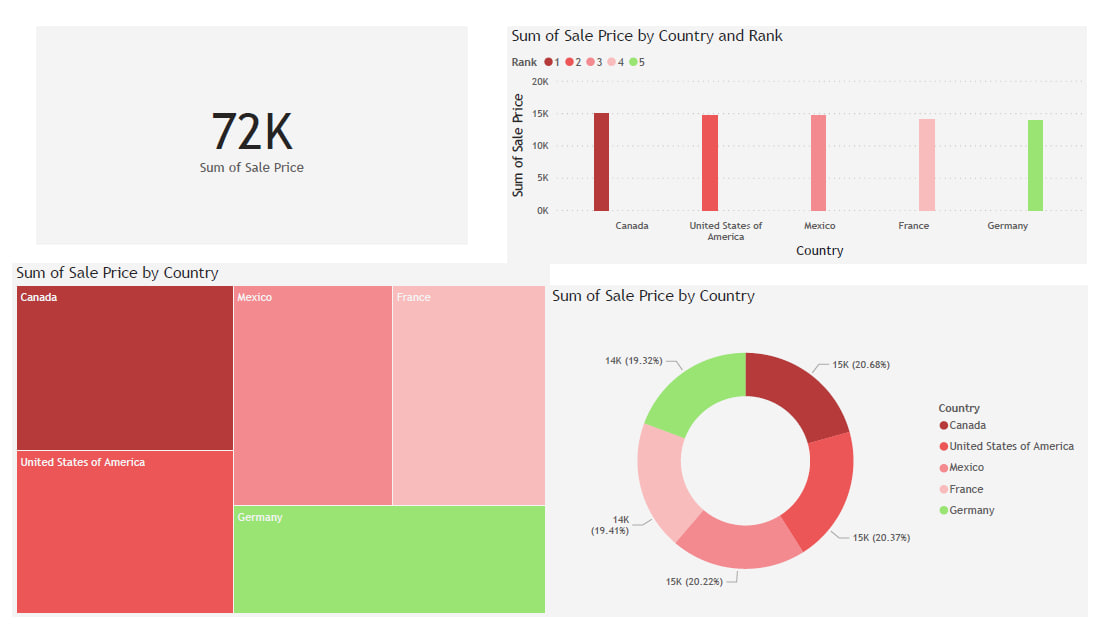

The page's visual inventory and layout, read from the dashboard file:
{"tool":"powerbi","page":{"name":"Page 2","canvas":[1280,720],"ordinal":1},"visuals":[{"type":"donutChart","fields":{"Category":["CountryRanking.Country"],"Y":["Sum(financials.Sale Price)"]},"box":[638.3,325.9,641.7,394.8],"z":0},{"type":"treemap","fields":{"Values":["Sum(financials.Sale Price)"],"Group":["CountryRanking.Country"]},"box":[0,299,640,421.6],"z":1000},{"type":"card","fields":{"Values":["Sum(financials.Sale Price)"]},"box":[28.6,16.8,514,260.4],"z":2000},{"type":"clusteredColumnChart","fields":{"Y":["Sum(financials.Sale Price)"],"Category":["CountryRanking.Country"],"Series":["CountryRanking.Rank"]},"box":[589.6,16.8,690.4,282.2],"z":3000}]}

Visuals, with their boxes in screenshot pixels (x1, y1, x2, y2), scaled from the page's 1280x720 canvas onto the 1102x630 screenshot:
donutChart - CountryRanking.Country x Sum(financials.Sale Price): <box>550,285,1101,629</box>
treemap - Sum(financials.Sale Price) x CountryRanking.Country: <box>0,262,551,629</box>
card - Sum(financials.Sale Price): <box>25,15,467,243</box>
clusteredColumnChart - Sum(financials.Sale Price) x CountryRanking.Country: <box>508,15,1101,262</box>
